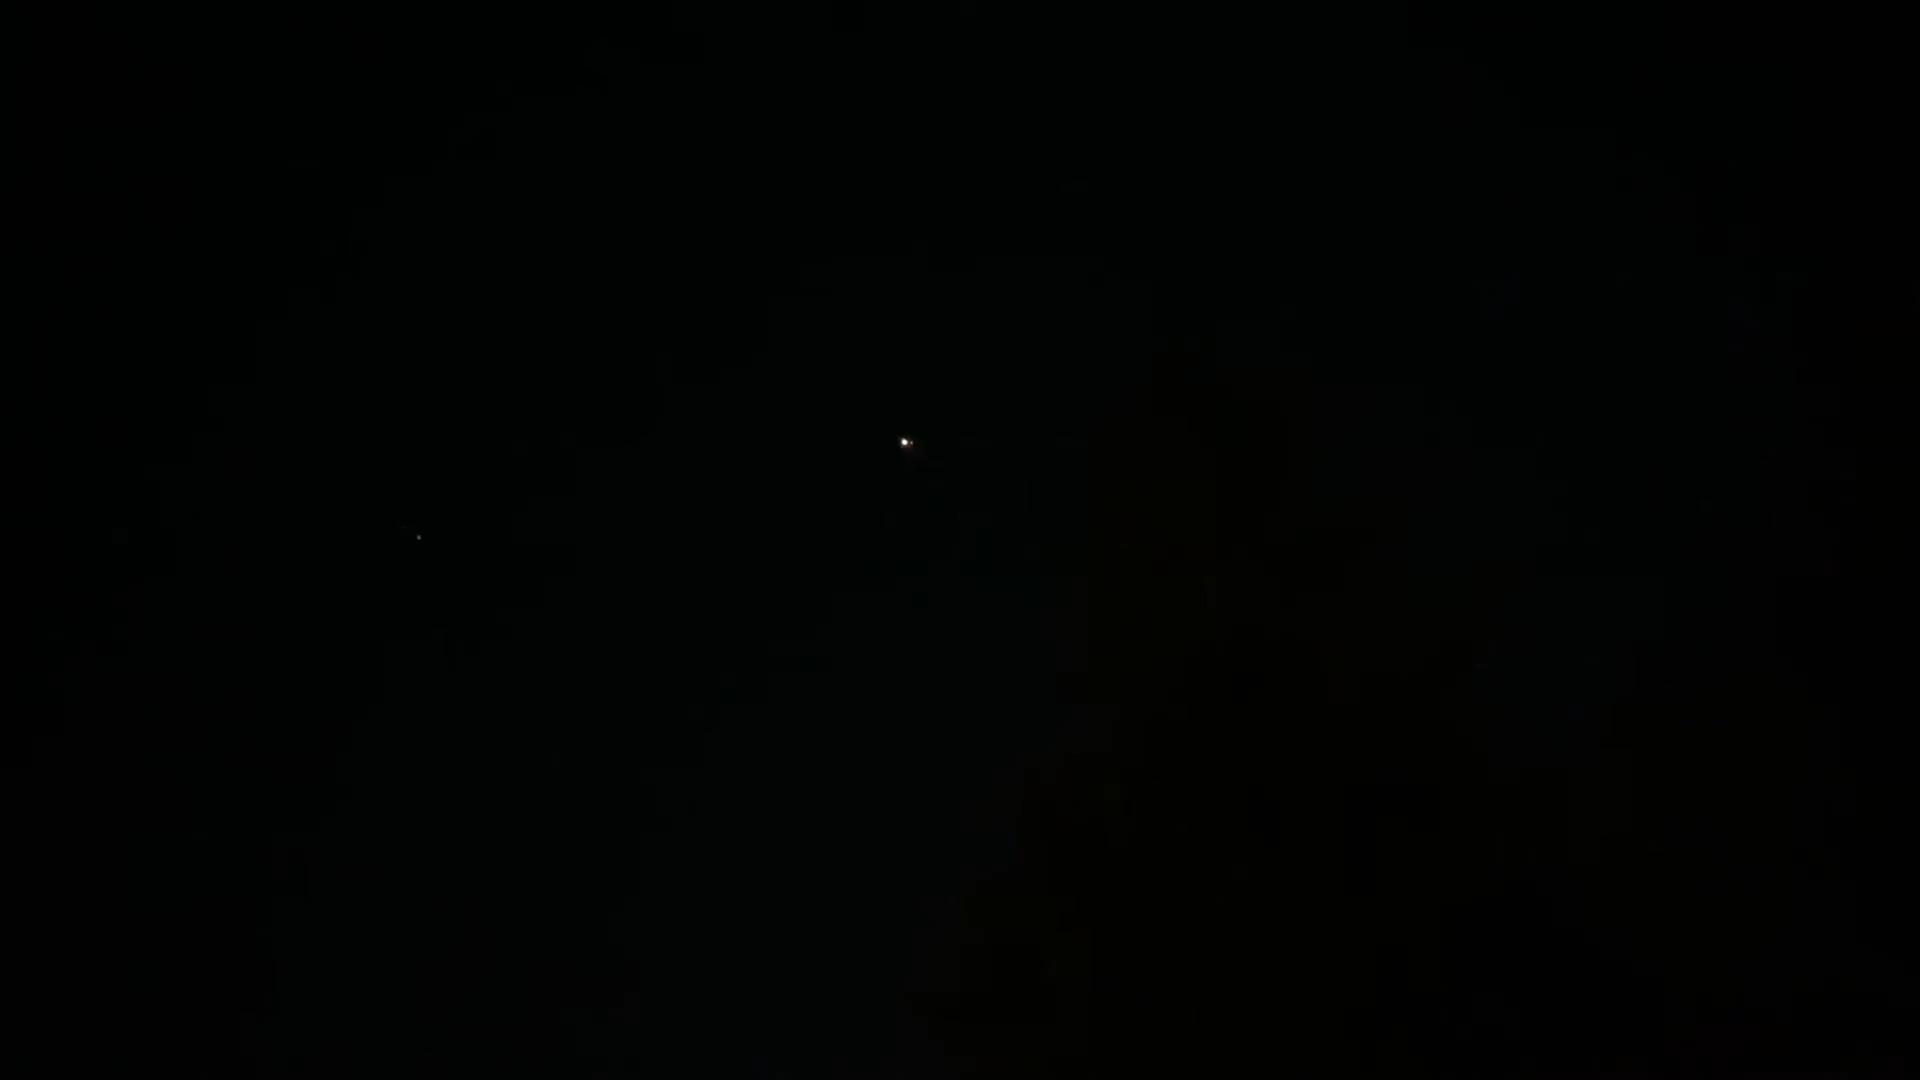Plane: (889, 421, 927, 458)
